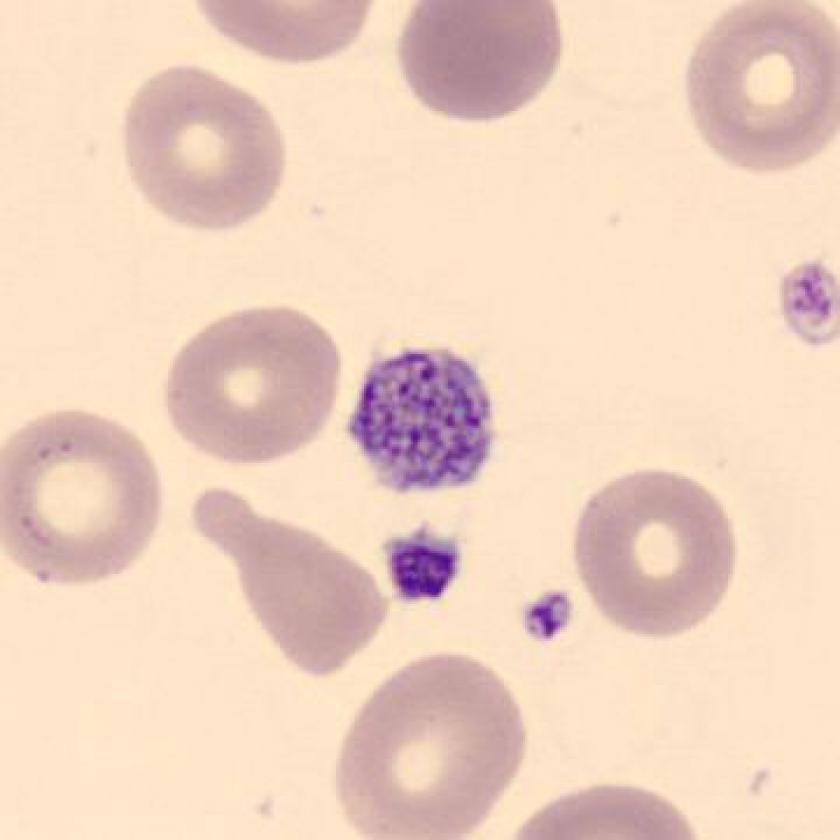platelets: (342, 341, 503, 503), (370, 517, 475, 607), (766, 256, 840, 355), (517, 584, 577, 644)
